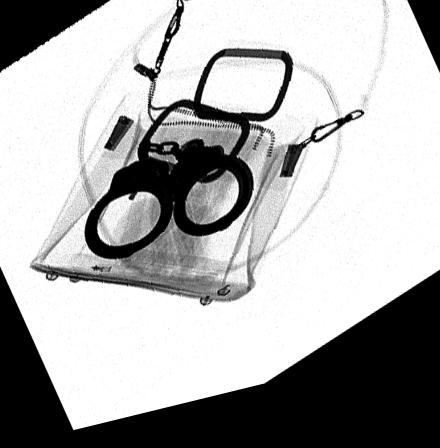HandCuffs: (85, 149, 254, 265)
